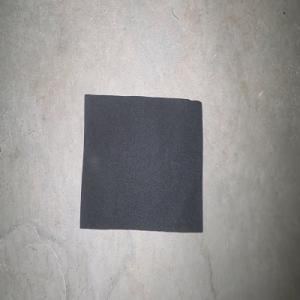PaintChip: (79, 94, 203, 233)
